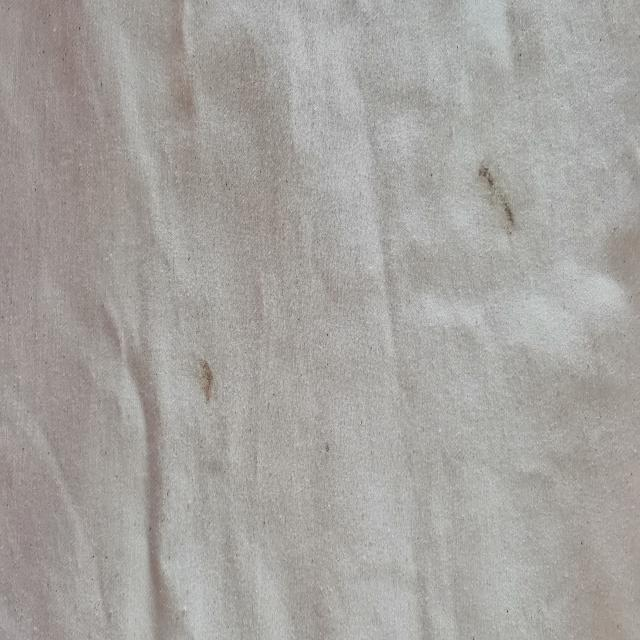taaaches: (474, 154, 524, 241), (194, 346, 222, 416)
